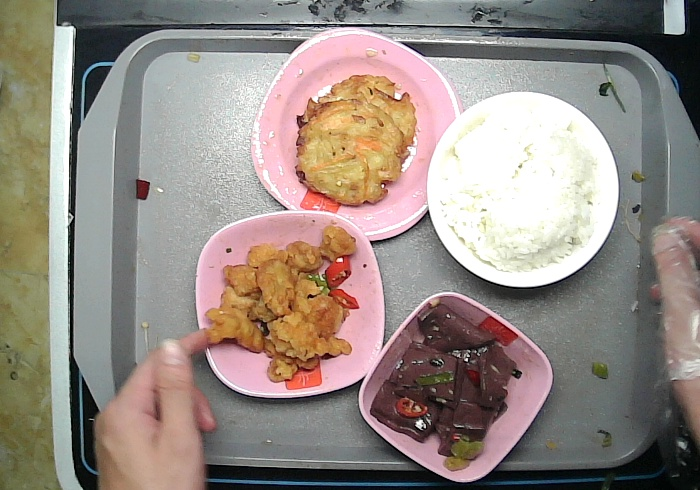SHKJ-Fan_Wan: (426, 89, 621, 290)
SHKJ-Fen_Se_Cai_Die: (193, 210, 388, 400)
SHKJ-Fen_Se_Si_Fang_Cai_Die: (248, 29, 460, 241)
SHKJ-Fen_Se_Xiao_Fang_Die: (358, 291, 554, 483)
